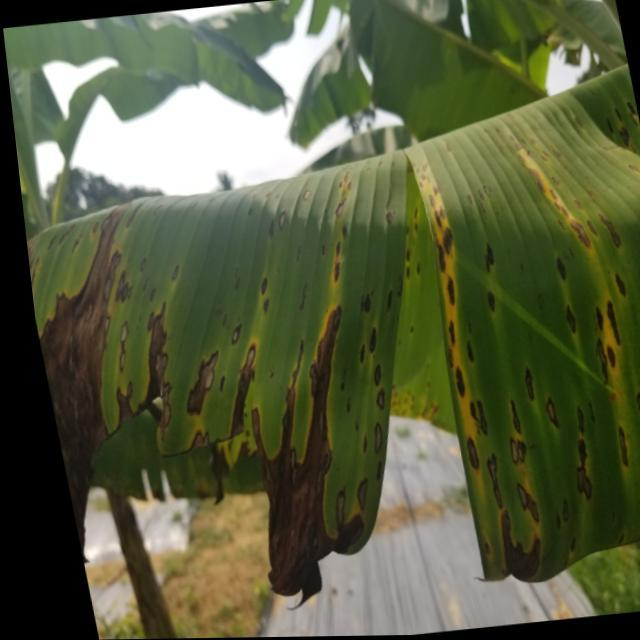Early_rust: (18, 82, 640, 559)
